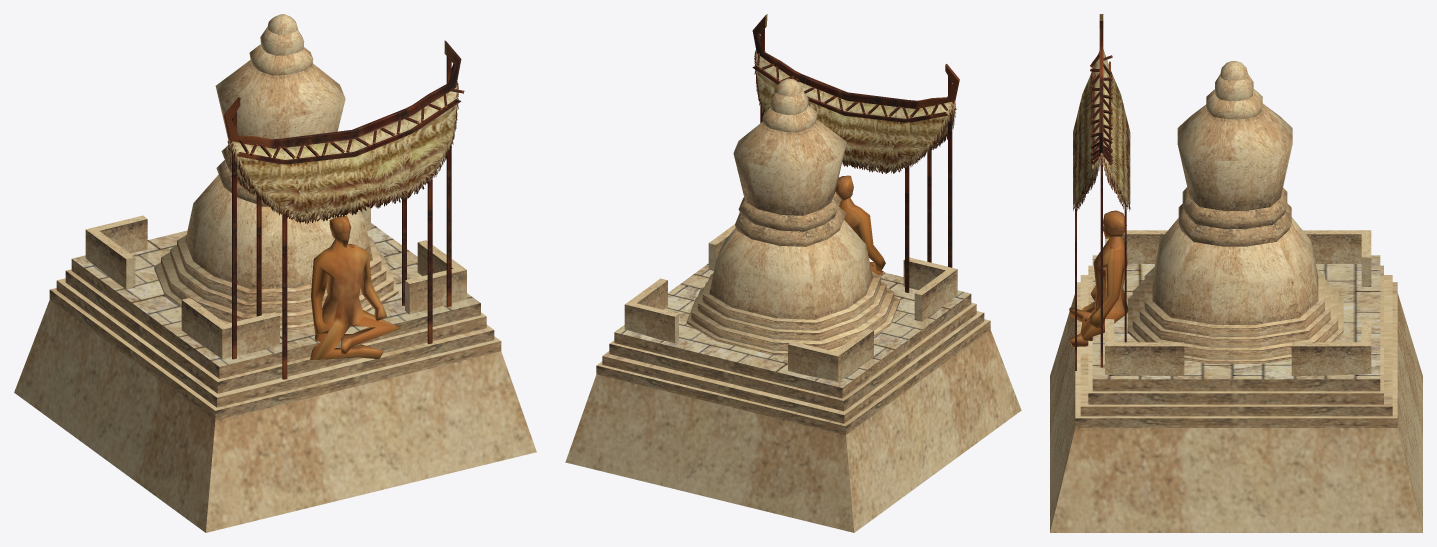
The model's file is stupa.dae.
3 views of the same model, side by side, from view 1: azimuth 30°, elevation 25°; view 2: azimuth 150°, elevation 25°; view 3: azimuth 270°, elevation 25° (orthographic). The views are drawn at different scales.
Parts seen in each view (by area): view 1: estupa; view 2: estupa; view 3: estupa.
Boxes of the visible parts, x1,y1,x2,y2 form: estupa: (14, 14, 536, 532); estupa: (565, 14, 1021, 532); estupa: (1050, 14, 1422, 532).
Bounding box in the file's own units: 14.25 × 14.29 × 16.78.
